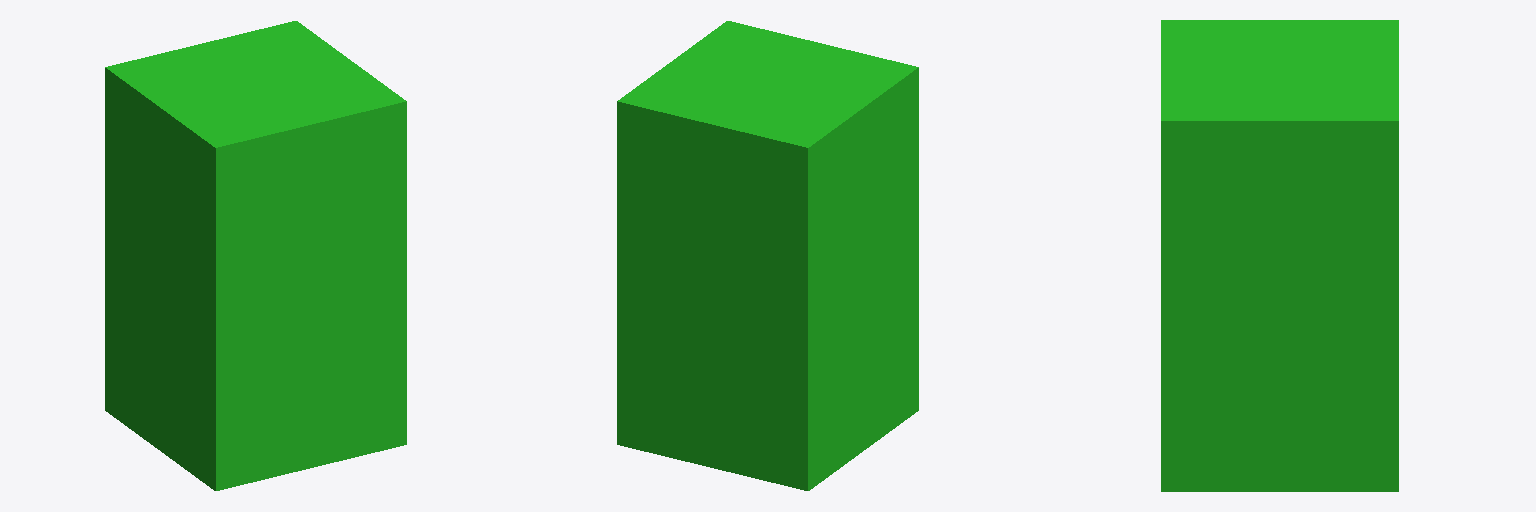
robot.urdf — robotiq_2f_140:
<?xml version="1.0"?>
<robot name="robotiq_2f_140">
  <link name="gripper_base">
    <visual>
      <geometry>
        <box size="0.07 0.07 0.12"/>
      </geometry>
      <material name="green">
        <color rgba="0.2 0.8 0.2 1"/>
      </material>
    </visual>
    <collision>
      <geometry>
        <box size="0.07 0.07 0.12"/>
      </geometry>
    </collision>
    <inertial>
      <mass value="0.7"/>
      <inertia ixx="0.002" ixy="0" ixz="0" iyy="0.002" iyz="0" izz="0.002"/>
    </inertial>
  </link>
  <!-- Add more links/joints for real gripper -->
</robot>

--- What the picture shows (computed from the rendered views, not written in the file) ---
Views: 3 orthographic renders of the robot side by side, from view 1: azimuth 30°, elevation 25°; view 2: azimuth 150°, elevation 25°; view 3: azimuth 270°, elevation 25°.
Model robotiq_2f_140 with 1 links and 0 joints (none), rooted at gripper_base, posed every joint at zero.
Links seen in each view (by area): view 1: gripper_base; view 2: gripper_base; view 3: gripper_base.
Link boxes in pixels (box(x1,y1,x2,y2)): gripper_base: box(105, 21, 406, 490); gripper_base: box(617, 21, 918, 490); gripper_base: box(1161, 20, 1398, 491).
Size in the robot's own frame: 0.07 by 0.07 by 0.12 metres.
Geometry: primitives only (box / cylinder / sphere), no mesh files.